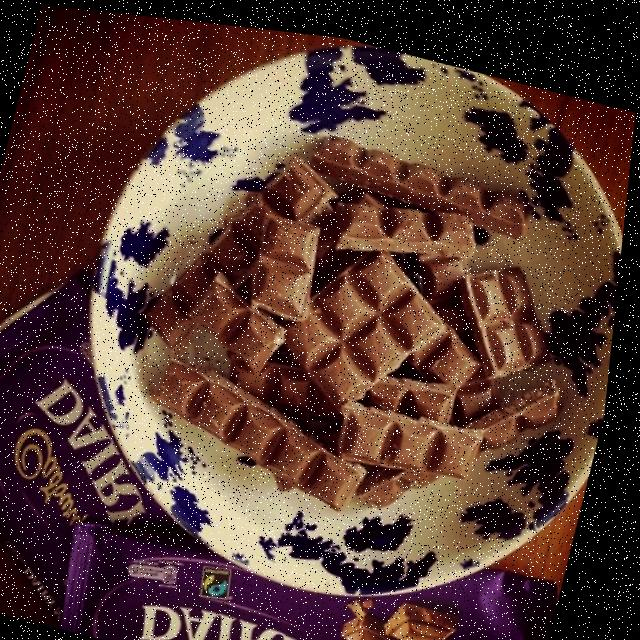cadbury: (62, 462, 578, 640)
